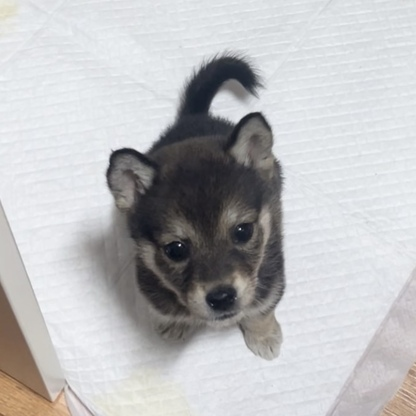shiba: (93, 43, 321, 367)
